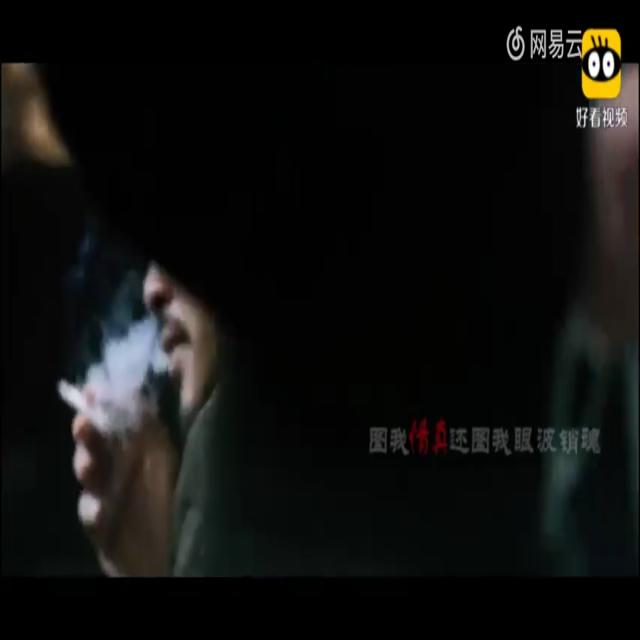cigarette: (58, 374, 112, 439)
